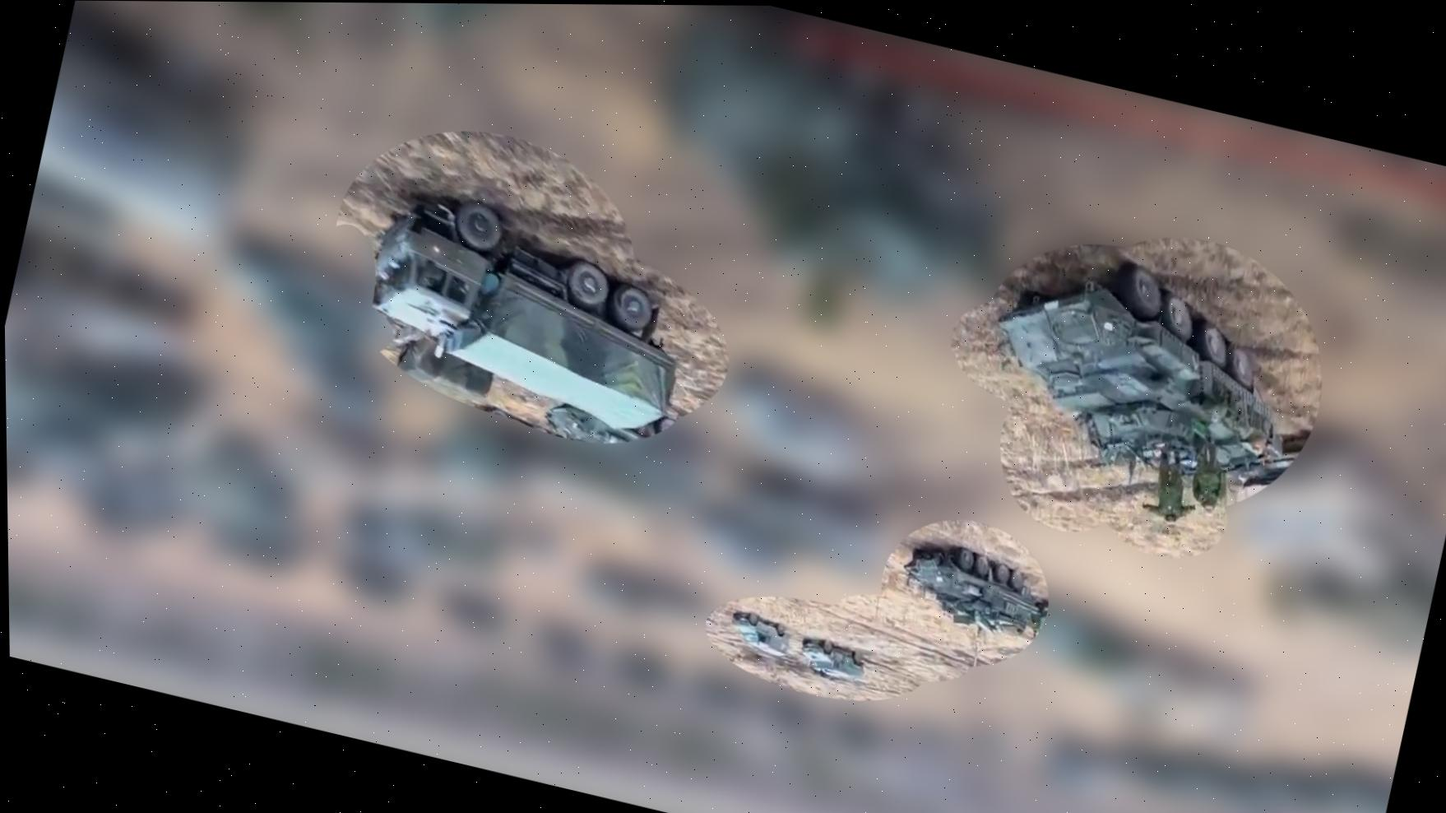armored_car: (969, 236, 1312, 501), (892, 535, 1050, 644), (793, 632, 871, 687), (723, 607, 796, 662)
truck: (345, 178, 705, 441)
